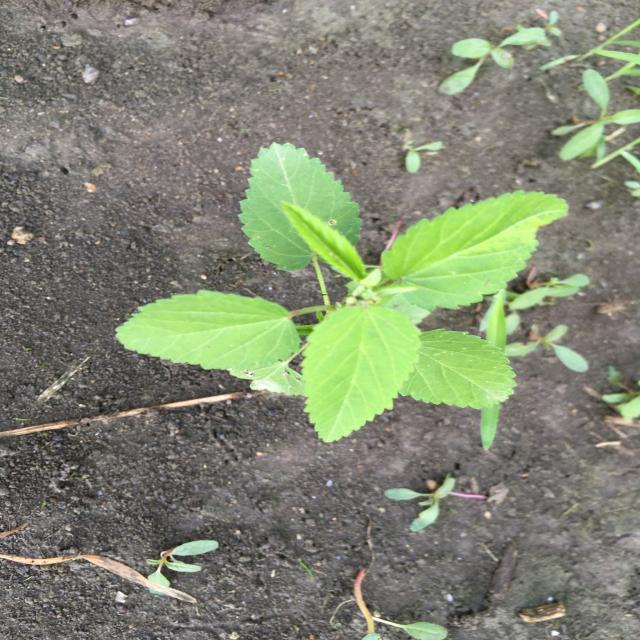PricklySida: (113, 141, 571, 444)
